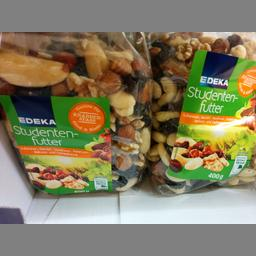nuts: (0, 31, 151, 194), (148, 32, 254, 197)
